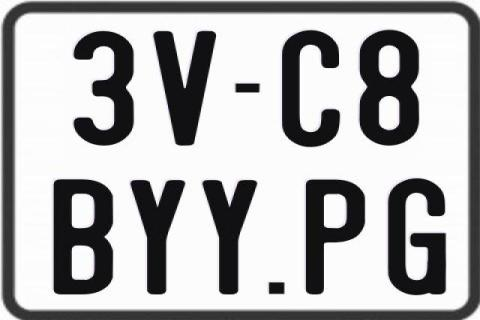0: (72, 31, 135, 151), (356, 28, 416, 146)
B: (52, 178, 111, 296)
C: (282, 29, 342, 149)
G: (387, 178, 448, 296)
P: (303, 177, 363, 296)
V: (154, 29, 222, 149)
Y: (130, 178, 188, 294), (202, 180, 258, 298)
